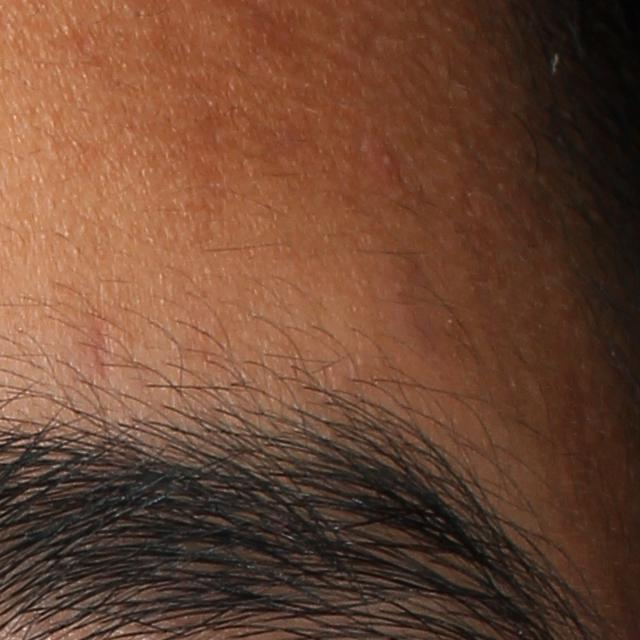atrophic_scar: (87, 311, 113, 385)
papule: (375, 149, 399, 167)
